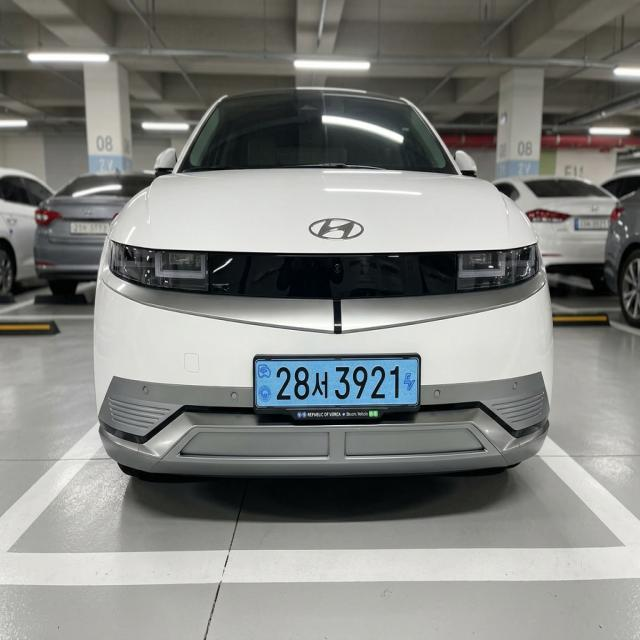car: (239, 343, 453, 441)
carev: (403, 359, 419, 409), (256, 362, 272, 407)
